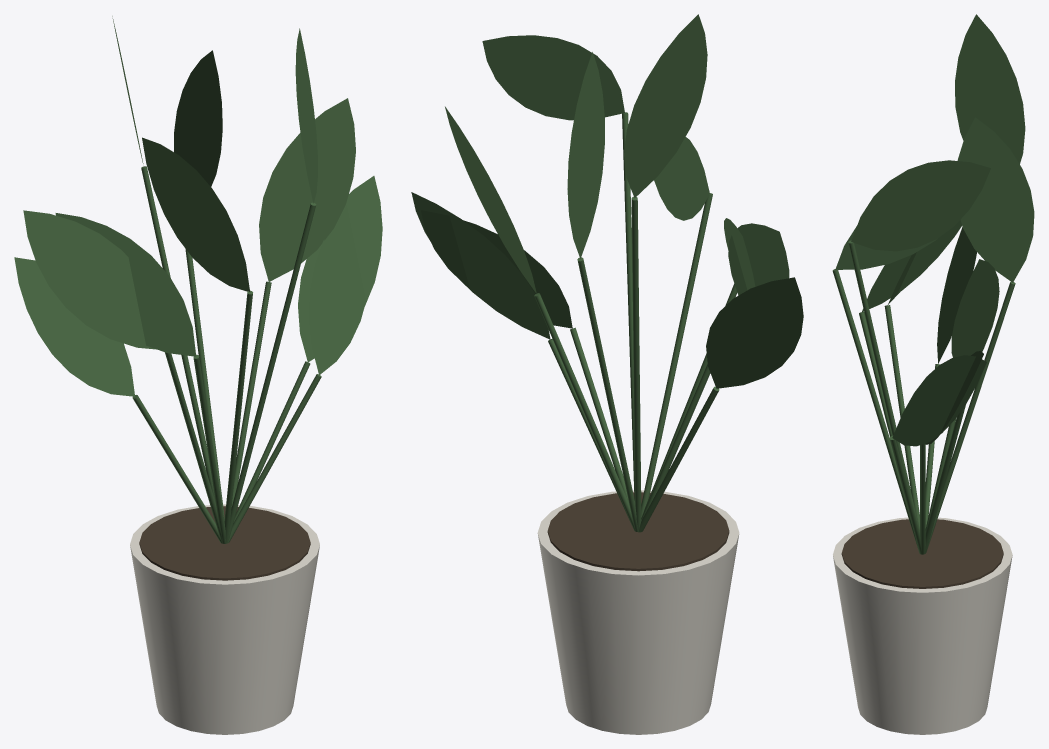
File: plant.glb
The picture shows the model from 3 angles, left to right: view 1: azimuth 30°, elevation 25°; view 2: azimuth 150°, elevation 25°; view 3: azimuth 270°, elevation 25°; orthographic projection. The views are drawn at different scales.
Visible parts, largest first — view 1: Lanceolate leaf (×9), Ceramic planter, Petiole (×10), Potting soil; view 2: Lanceolate leaf (×10), Ceramic planter, Petiole (×10), Potting soil; view 3: Lanceolate leaf (×9), Ceramic planter, Petiole (×10), Potting soil.
Boxes of the visible parts, x1,y1,x2,y2 form: Lanceolate leaf (×9): (14,28,382,396); Ceramic planter: (130,504,319,734); Petiole (×10): (132,166,321,543); Potting soil: (139,506,310,580); Lanceolate leaf (×10): (411,14,803,388); Ceramic planter: (537,490,739,734); Petiole (×10): (534,112,737,532); Potting soil: (547,492,729,571); Lanceolate leaf (×9): (835,14,1034,446); Ceramic planter: (833,517,1012,734); Petiole (×10): (832,240,1015,554); Potting soil: (841,519,1003,588).
Size of the model in its own units: 0.7044 by 1.28 by 0.3594.
